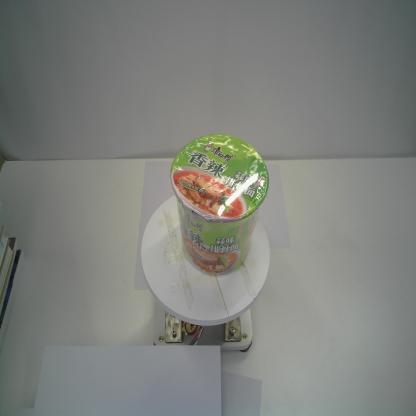Instant Noodles: (169, 132, 270, 278)
